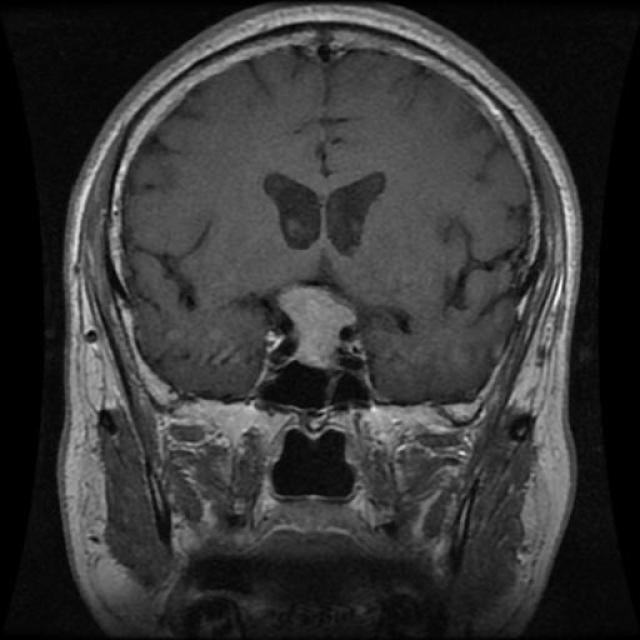pituitary: (274, 280, 371, 376)
